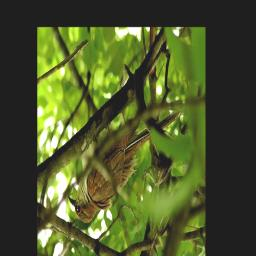Cuckoo: (68, 108, 182, 226)
